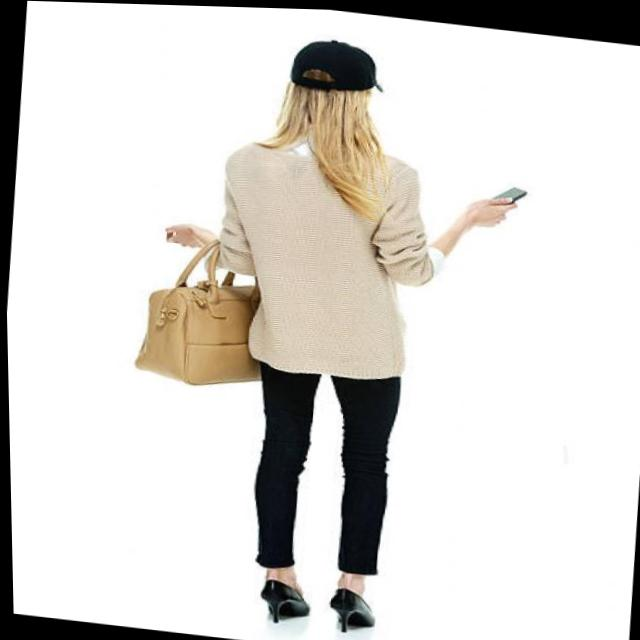no helmet: (260, 18, 401, 157)
